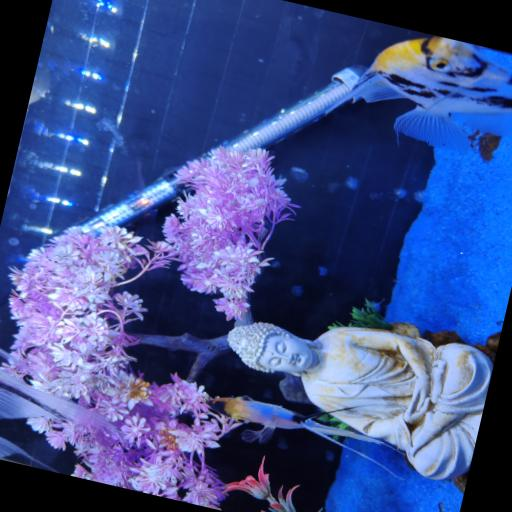Fish: (330, 36, 511, 153), (206, 396, 395, 476), (0, 369, 115, 429)
